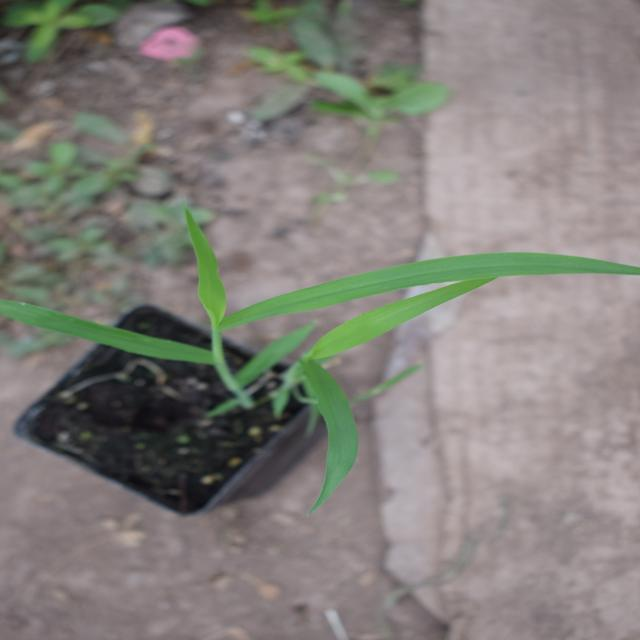crabgrass: (198, 130, 408, 559)
